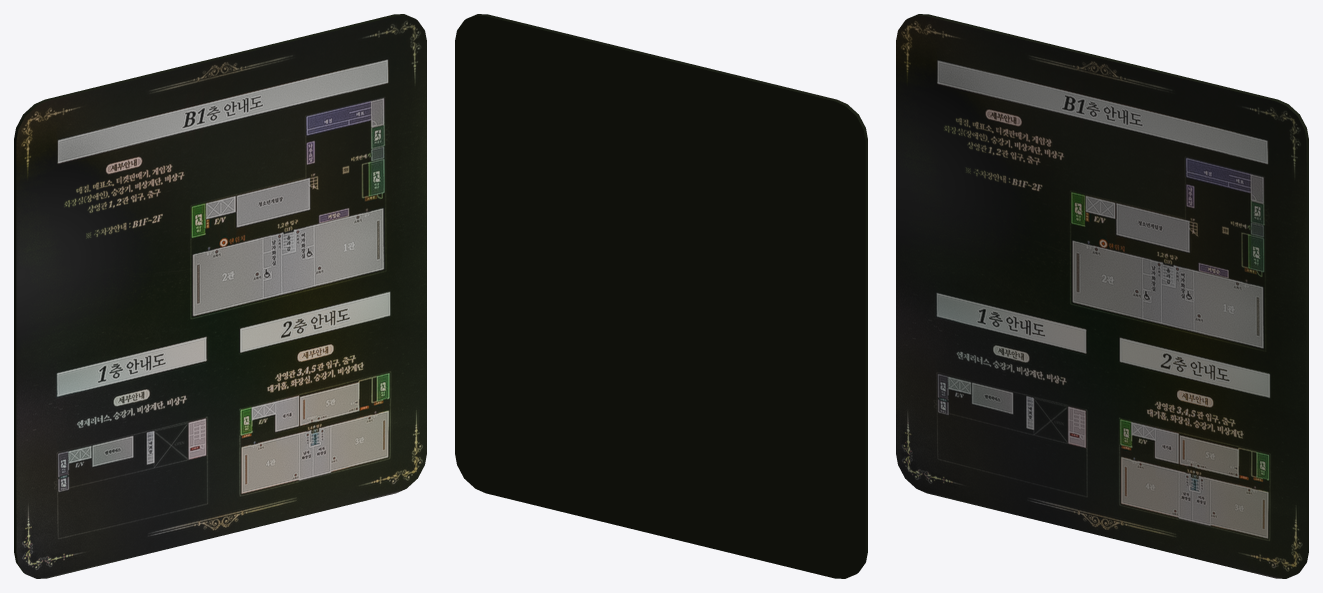
File: LC_3109_Guidemap_B_LOD3.FBX
The picture shows the model from 3 angles, left to right: view 1: azimuth 30°, elevation 25°; view 2: azimuth 150°, elevation 25°; view 3: azimuth 330°, elevation 25°; orthographic projection.
Parts seen in each view (by area): view 1: LC_3109_Guidemap_B_LOD3; view 2: LC_3109_Guidemap_B_LOD3; view 3: LC_3109_Guidemap_B_LOD3.
Part boxes in pixels (box(x1,y1,x2,y2)): LC_3109_Guidemap_B_LOD3: box(14, 14, 426, 578); LC_3109_Guidemap_B_LOD3: box(455, 14, 867, 578); LC_3109_Guidemap_B_LOD3: box(896, 14, 1308, 578).
Bounding box in the file's own units: 100 × 112 × 1.
Materials: 1 (1 with a texture image).
